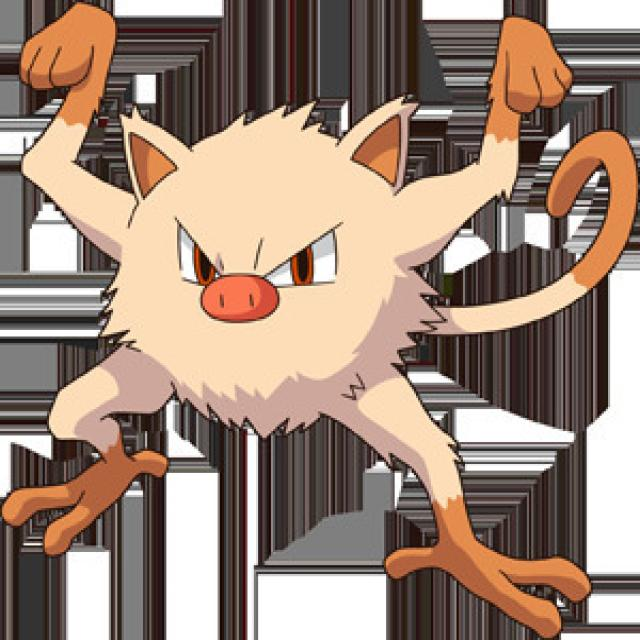Mankey: (22, 76, 526, 552)
